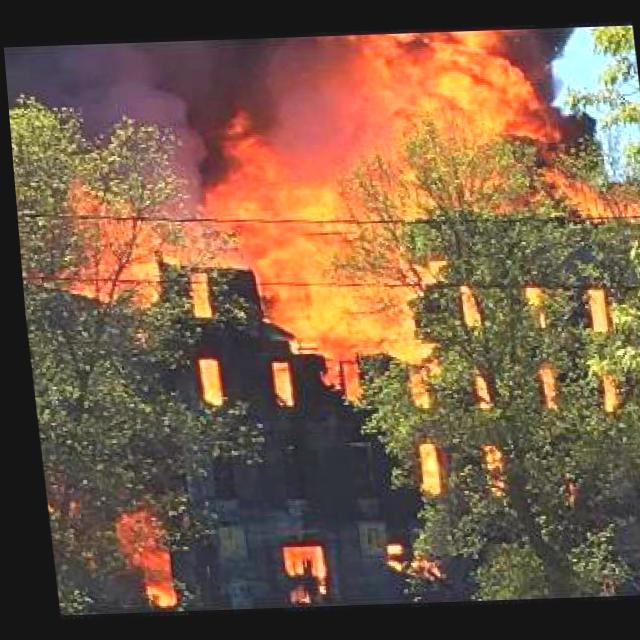Fire: (29, 38, 640, 482)
